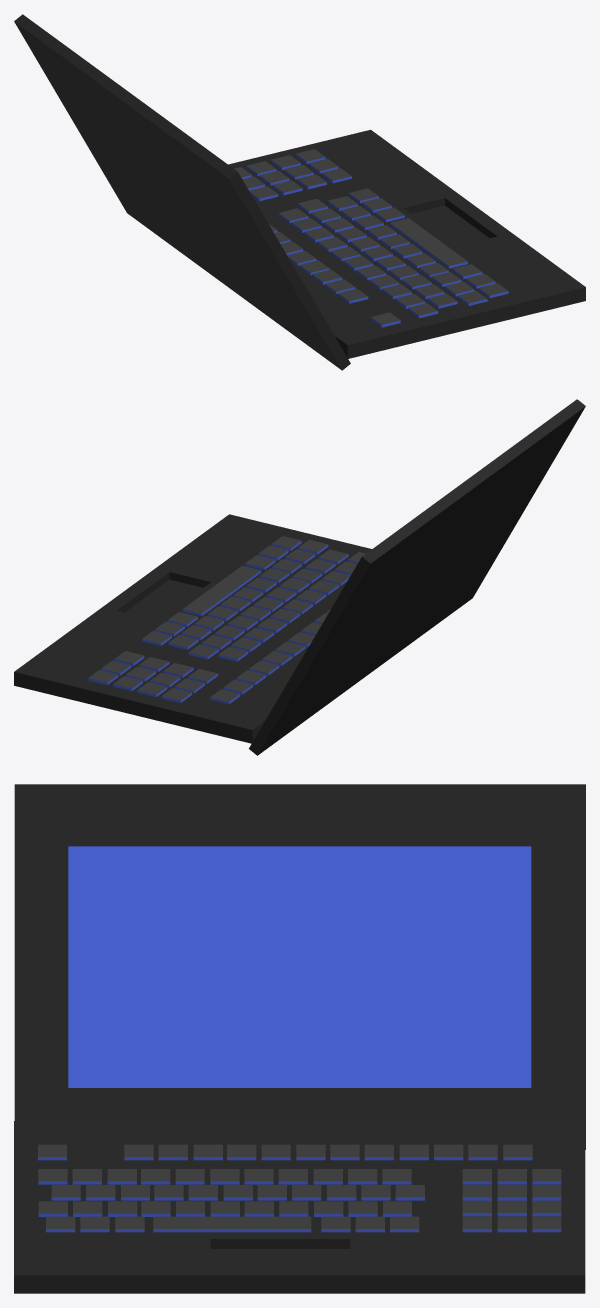
The model's file is ordi.fbx.
3 renders of one model, top to bottom at view 1: azimuth 30°, elevation 25°; view 2: azimuth 150°, elevation 25°; view 3: azimuth 270°, elevation 25°, orthographic. The views are drawn at different scales.
Parts seen in each view (by area): view 1: Cube, Cube.001, Cube.054; view 2: Cube, Cube.001, Cube.054; view 3: Cube, Cube.001, Cube.054.
Boxes of the visible parts, <box> form: Cube: <box>14,14,350,370</box>; Cube.001: <box>228,129,585,358</box>; Cube.054: <box>389,218,467,268</box>; Cube: <box>249,399,585,755</box>; Cube.001: <box>14,514,371,743</box>; Cube.054: <box>182,565,261,616</box>; Cube: <box>14,784,585,1149</box>; Cube.001: <box>14,1121,585,1293</box>; Cube.054: <box>153,1216,311,1232</box>.
Bounding box in the file's own units: 299 × 180 × 313.
